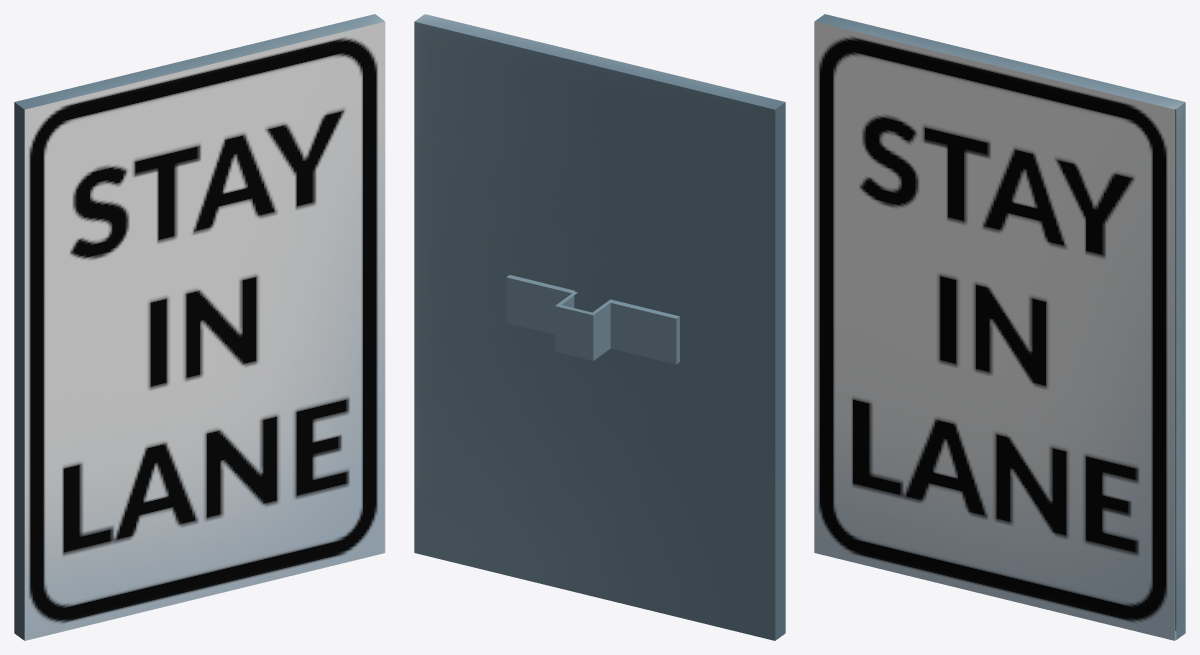
The model's file is Sign63.fbx.
The picture shows the model from 3 angles, left to right: view 1: azimuth 30°, elevation 25°; view 2: azimuth 150°, elevation 25°; view 3: azimuth 330°, elevation 25°; orthographic projection.
Parts seen in each view (by area): view 1: Sign63; view 2: Sign63; view 3: Sign63.
Part boxes in pixels (box(x1,y1,x2,y2)): Sign63: box(14, 14, 385, 640); Sign63: box(414, 14, 785, 640); Sign63: box(814, 14, 1185, 640).
Size of the model in its own units: 1 by 0.1489 by 1.41.
